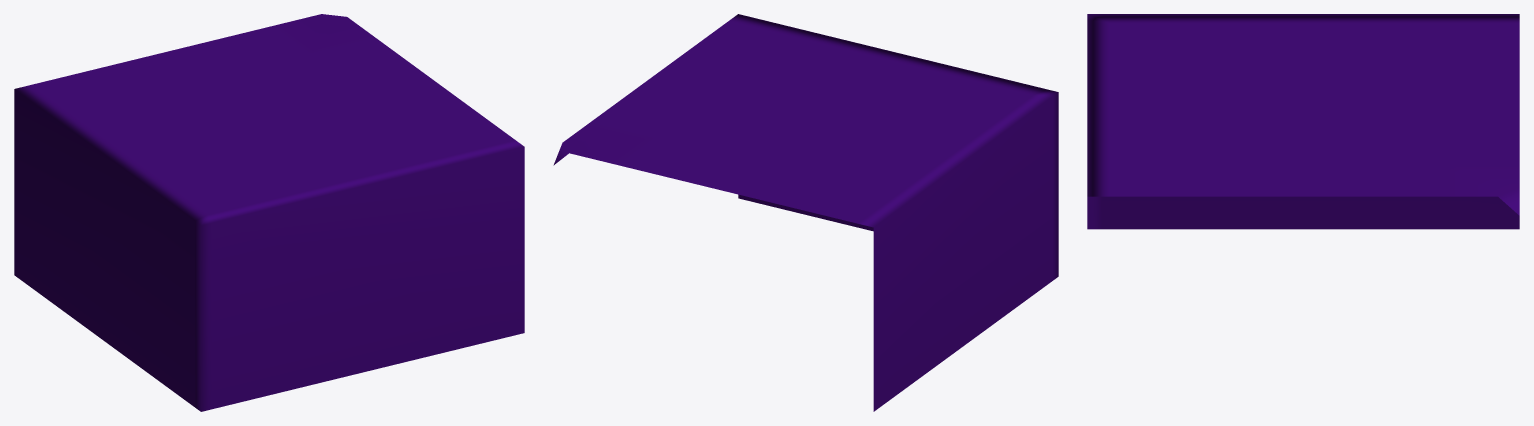
Rendered from border_cushion_convex_a.fbx.
3 views of the same model, side by side, from view 1: azimuth 30°, elevation 25°; view 2: azimuth 150°, elevation 25°; view 3: azimuth 270°, elevation 25° (orthographic). The views are drawn at different scales.
Visible parts, largest first — view 1: lod0; view 2: lod0; view 3: lod0.
Part boxes in pixels (<box>): lod0: <box>14,14,524,411</box>; lod0: <box>553,14,1058,411</box>; lod0: <box>1087,14,1519,229</box>.
Size of the model in its own units: 5 by 2.75 by 5.
